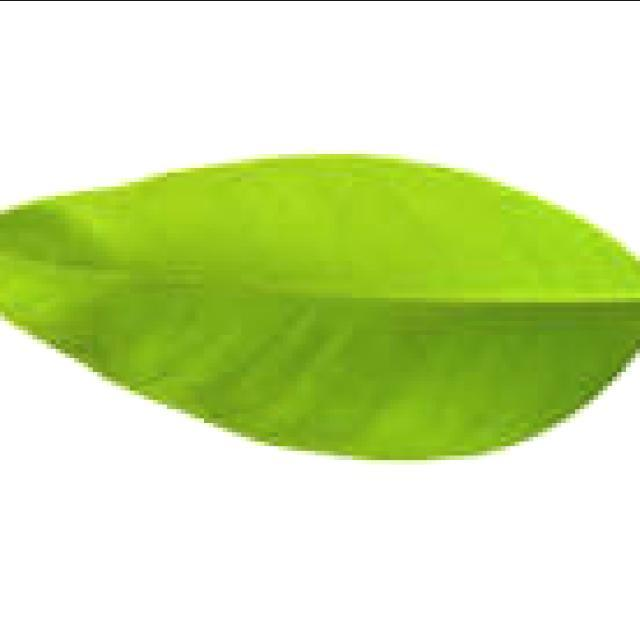leaf: (0, 151, 639, 460)
